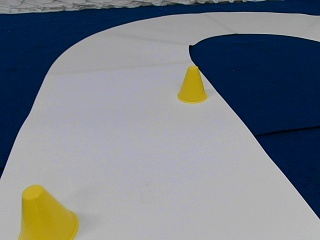cone: (17, 185, 79, 239), (177, 66, 207, 102)
